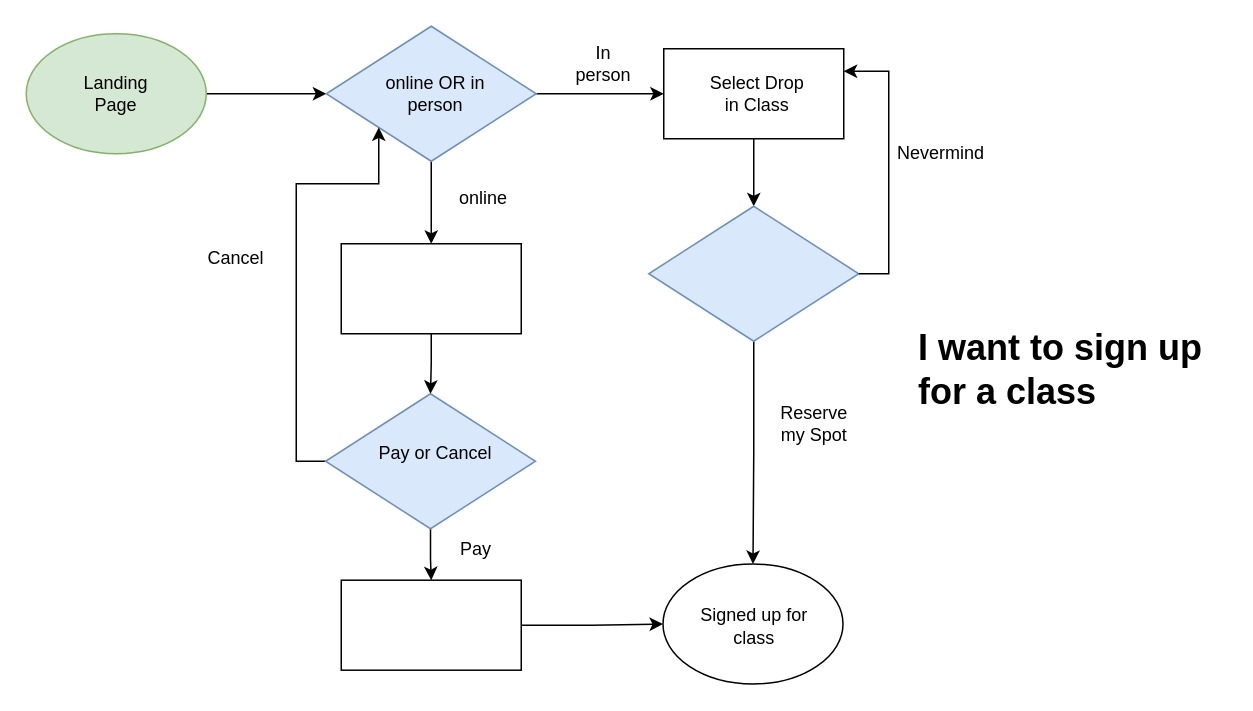
This 1253x711 diagram has some shape labels left out. The box of each missing label's shape, as (x1, y1, x2, y2) in pixels:
Monthly Subscription payment prompt: (340, 242, 521, 334)
Reserve my spot or Nevermind: (647, 205, 859, 341)
Select Online Class: (340, 579, 521, 670)
